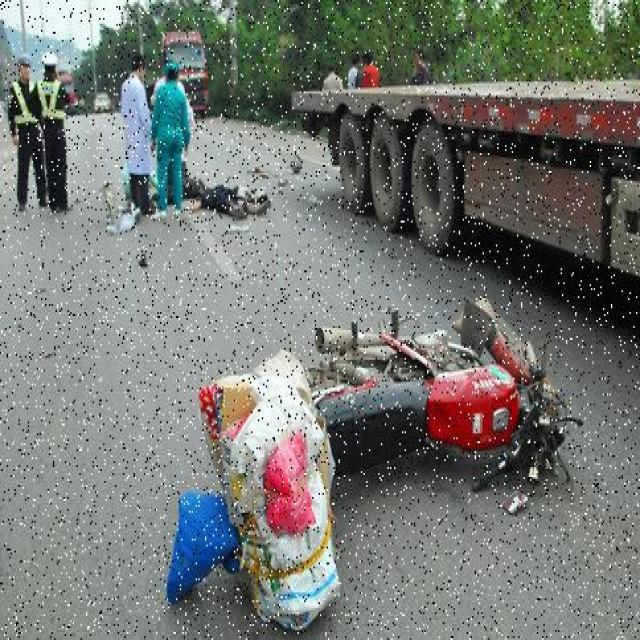fall: (158, 165, 270, 222)
